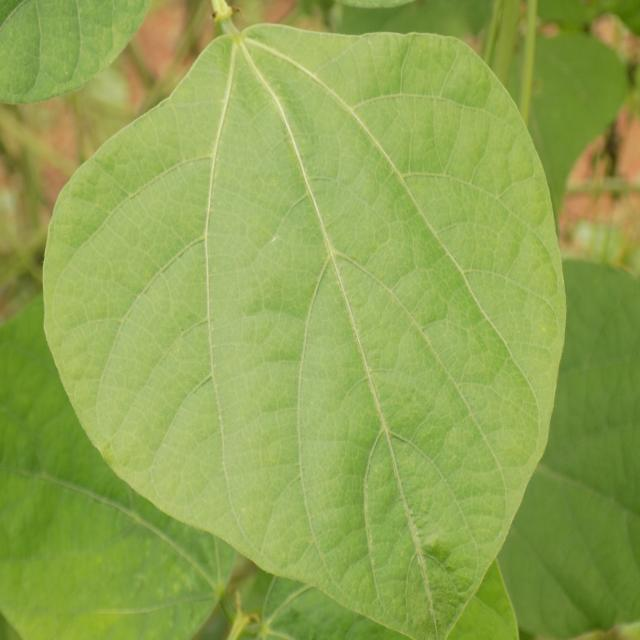Dolicos bean_healthy: (42, 23, 568, 640)
